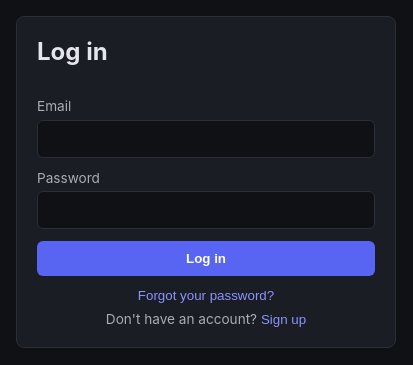
Test: forgot password › asks the server for a link and shows a message that doesn't reveal whether the account exists
Click the button "Forgot your password?" at coordinates (206, 295), box x1=138 y1=288 x2=274 y2=303
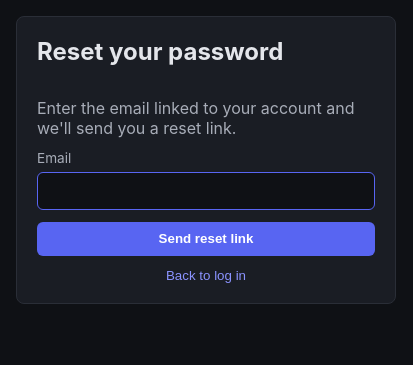
Type "ada@example.com" into the field labelled "Email" at coordinates (206, 191), box x1=37 y1=172 x2=375 y2=210
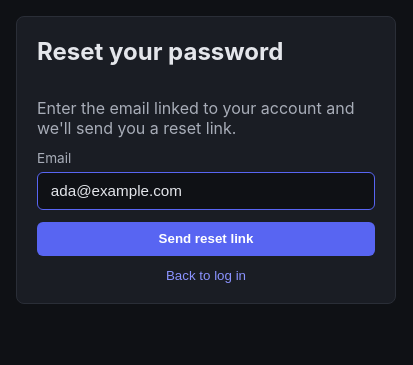
Click the button "Send reset link" at coordinates (206, 239), box x1=37 y1=222 x2=375 y2=256
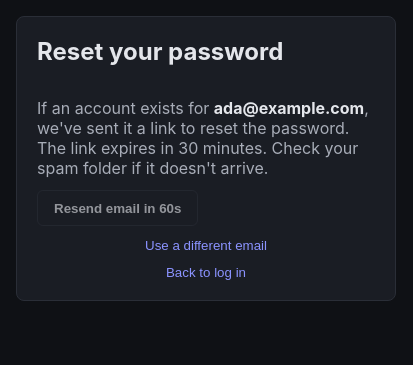
Expected: the text "If an account exists for" is shown, x1=37 y1=98 x2=214 y2=118
